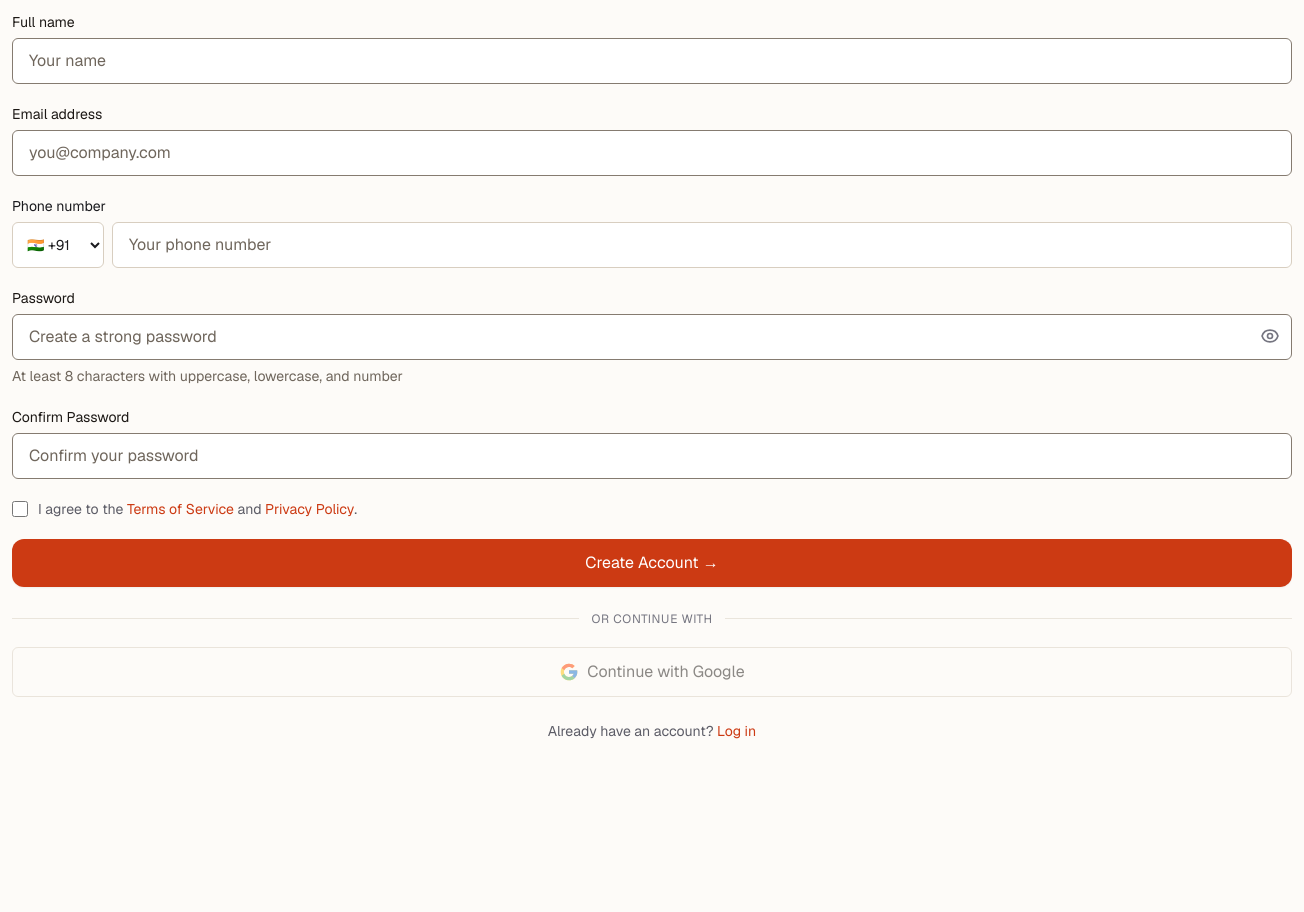
Test case: SignupForm › blocks submission with a validation message when the Terms/Privacy checkbox is not checked
The image size is (1304, 912).
Type "owner@example.com" into the field labelled "Email address" at [652, 153], box 12,130 -> 1292,176
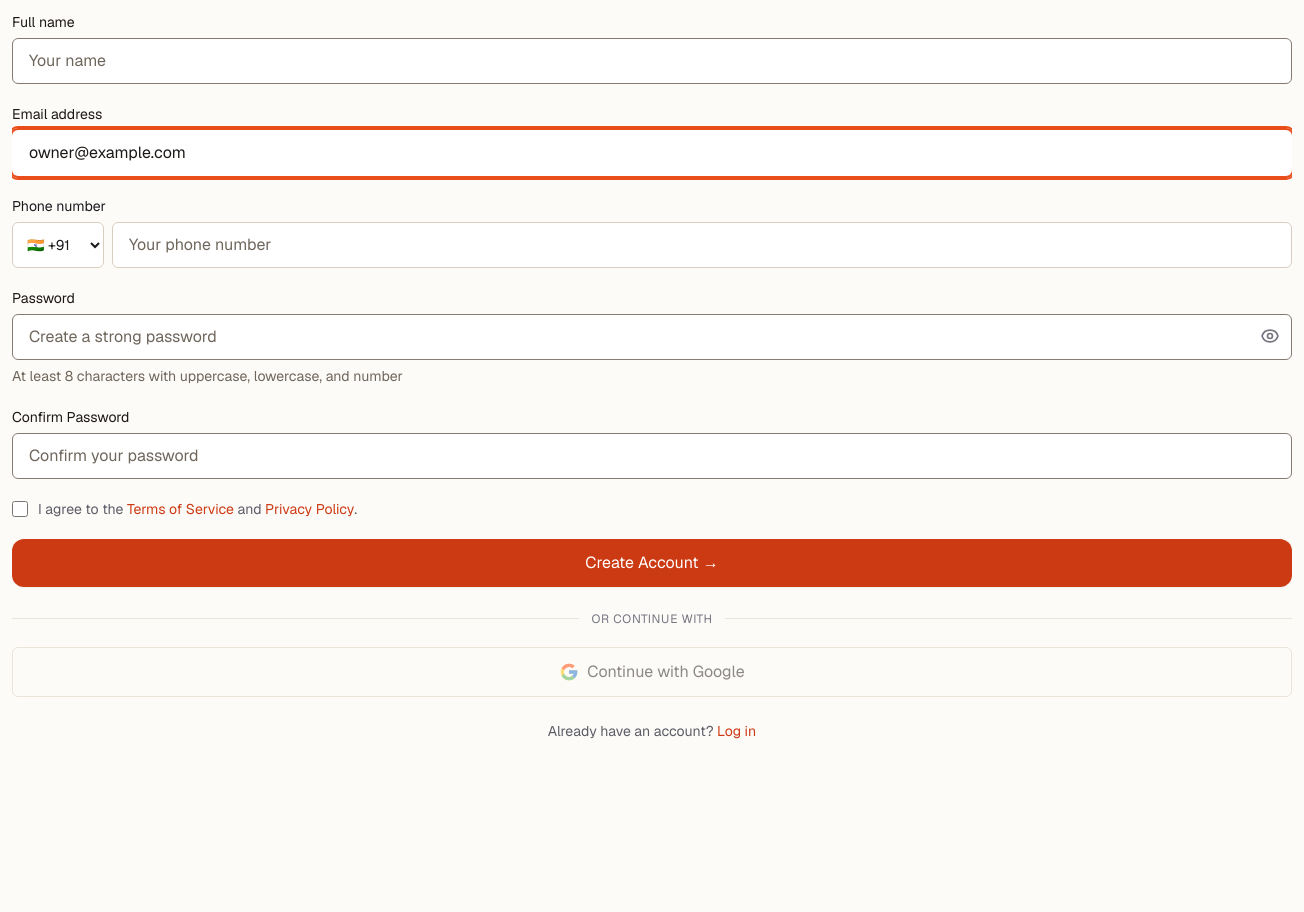
Type "Password1" into the password field labelled "Password" at [652, 337], box 12,314 -> 1292,360
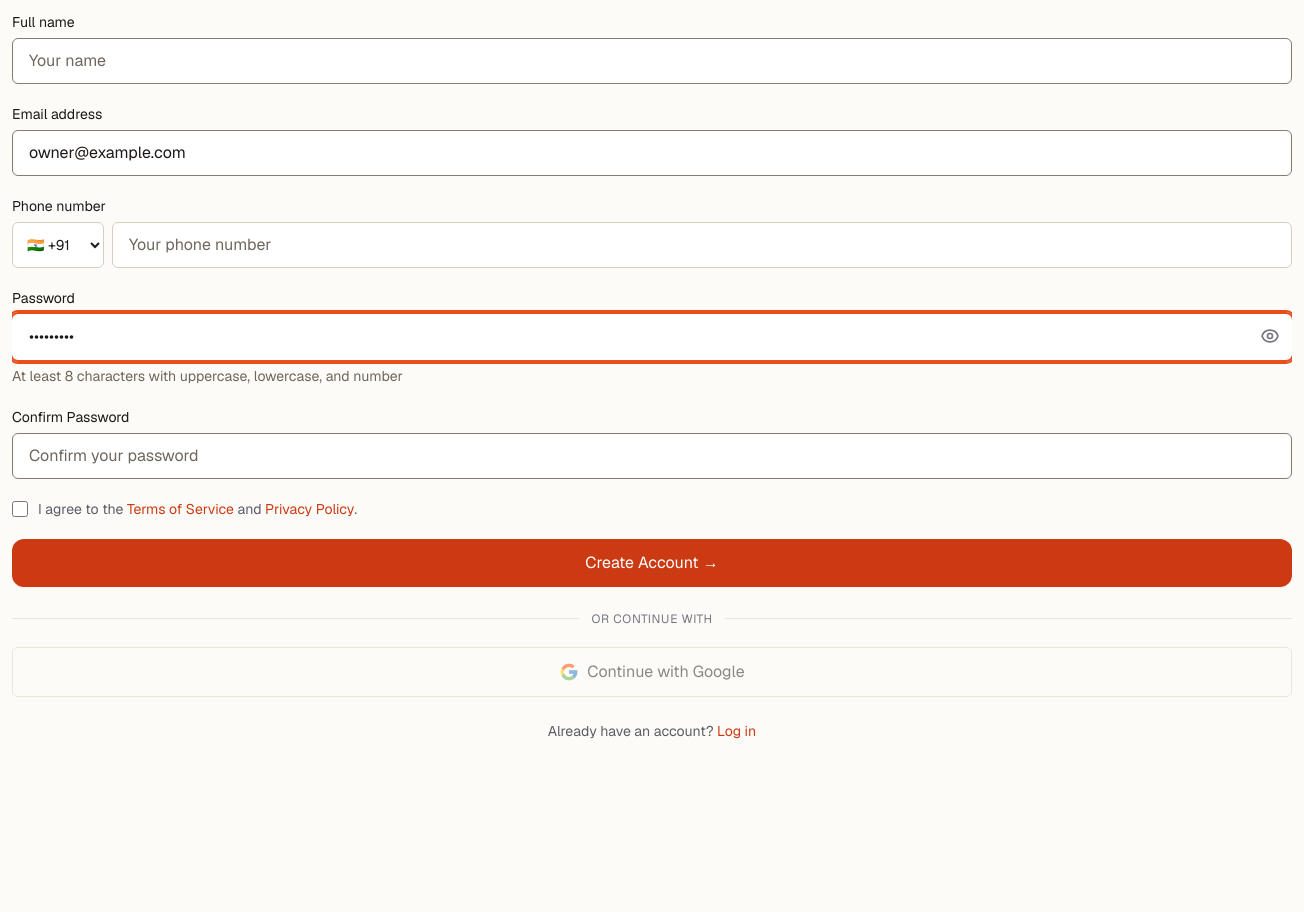
Type "Password1" into the password field labelled "Confirm Password" at [652, 456], box 12,433 -> 1292,479
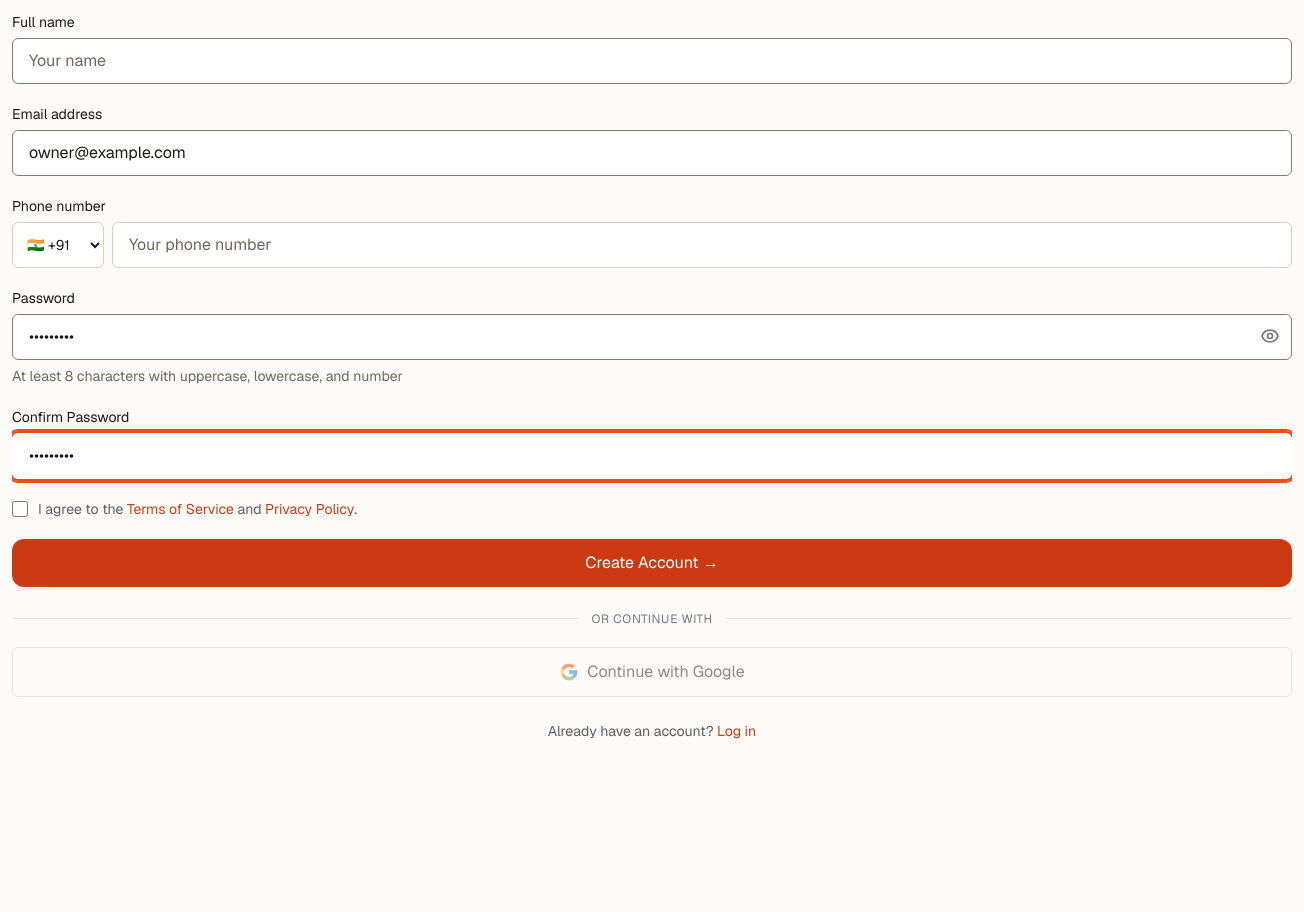
Click the button "Create Account →" at [652, 563], box 12,539 -> 1292,587
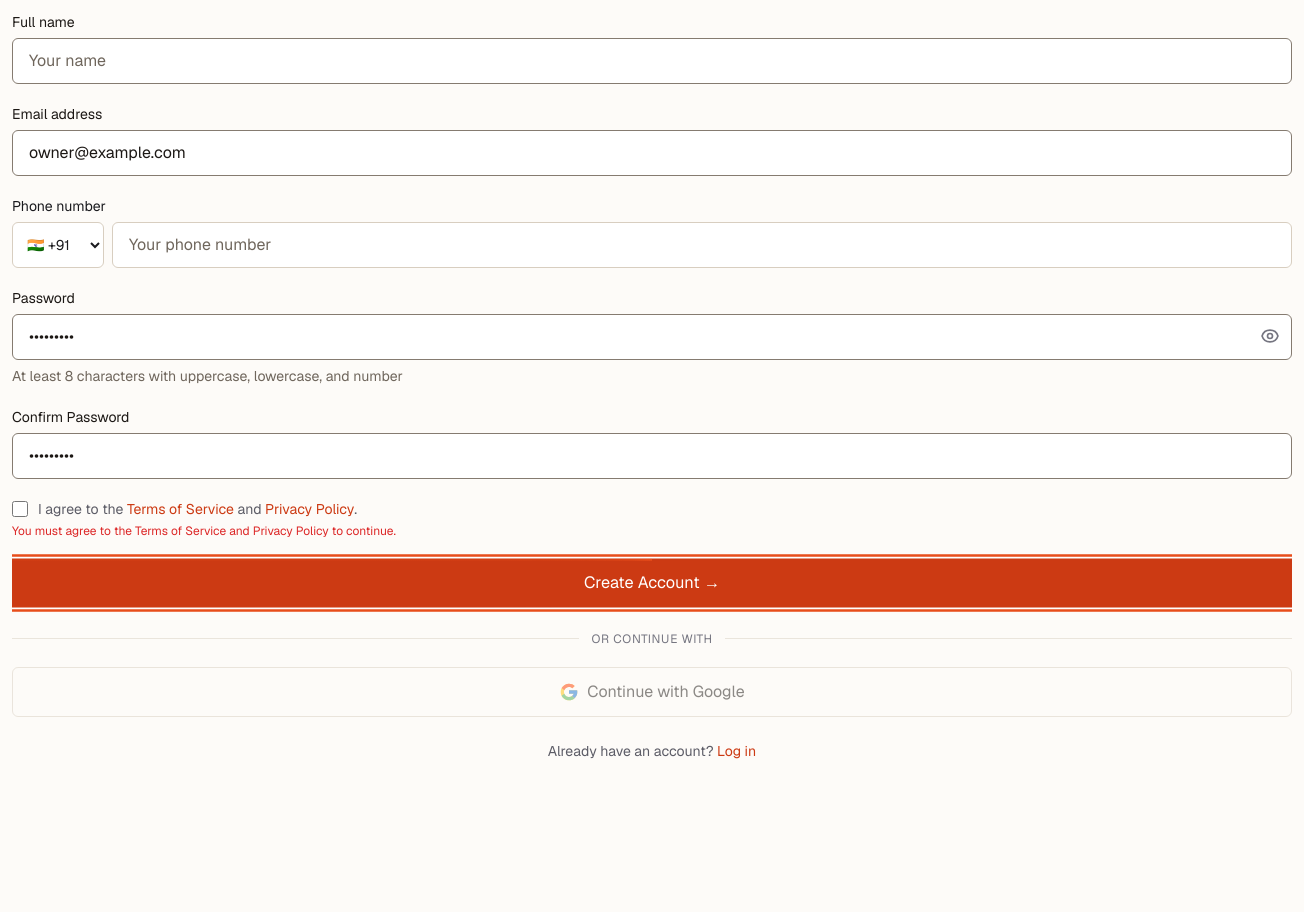
expect the text "You must agree to the Terms of Service and Privacy Policy to continue." is shown: met, box 12,523 -> 396,539
